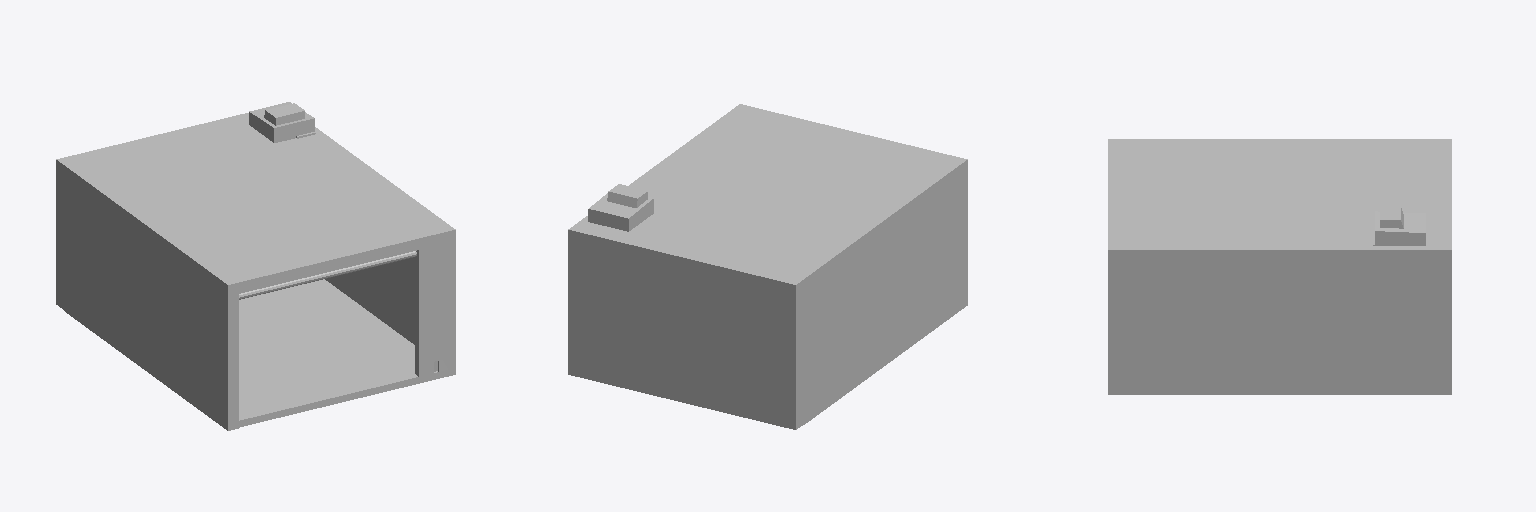
The model's file is warehouse.obj.
3 renders of one model, left to right at view 1: azimuth 30°, elevation 25°; view 2: azimuth 150°, elevation 25°; view 3: azimuth 270°, elevation 25°, orthographic.
Visible parts, largest first — view 1: group[number redacted]; view 2: group[number redacted]; view 3: group[number redacted].
Part boxes in pixels (x1,y1,x2,y2): group[number redacted]: (56,102,455,430); group[number redacted]: (568,104,967,429); group[number redacted]: (1108,139,1451,394).
Bounding box in the file's own units: 4.05 × 2.87 × 5.29.